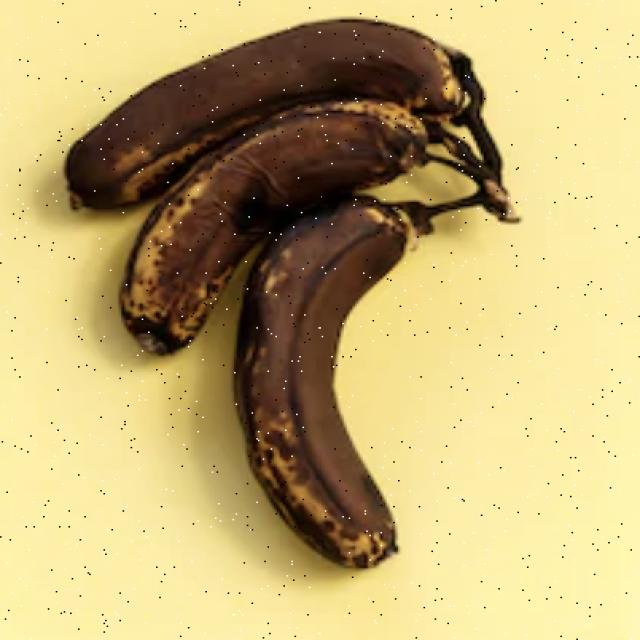banana: (48, 97, 527, 571)
